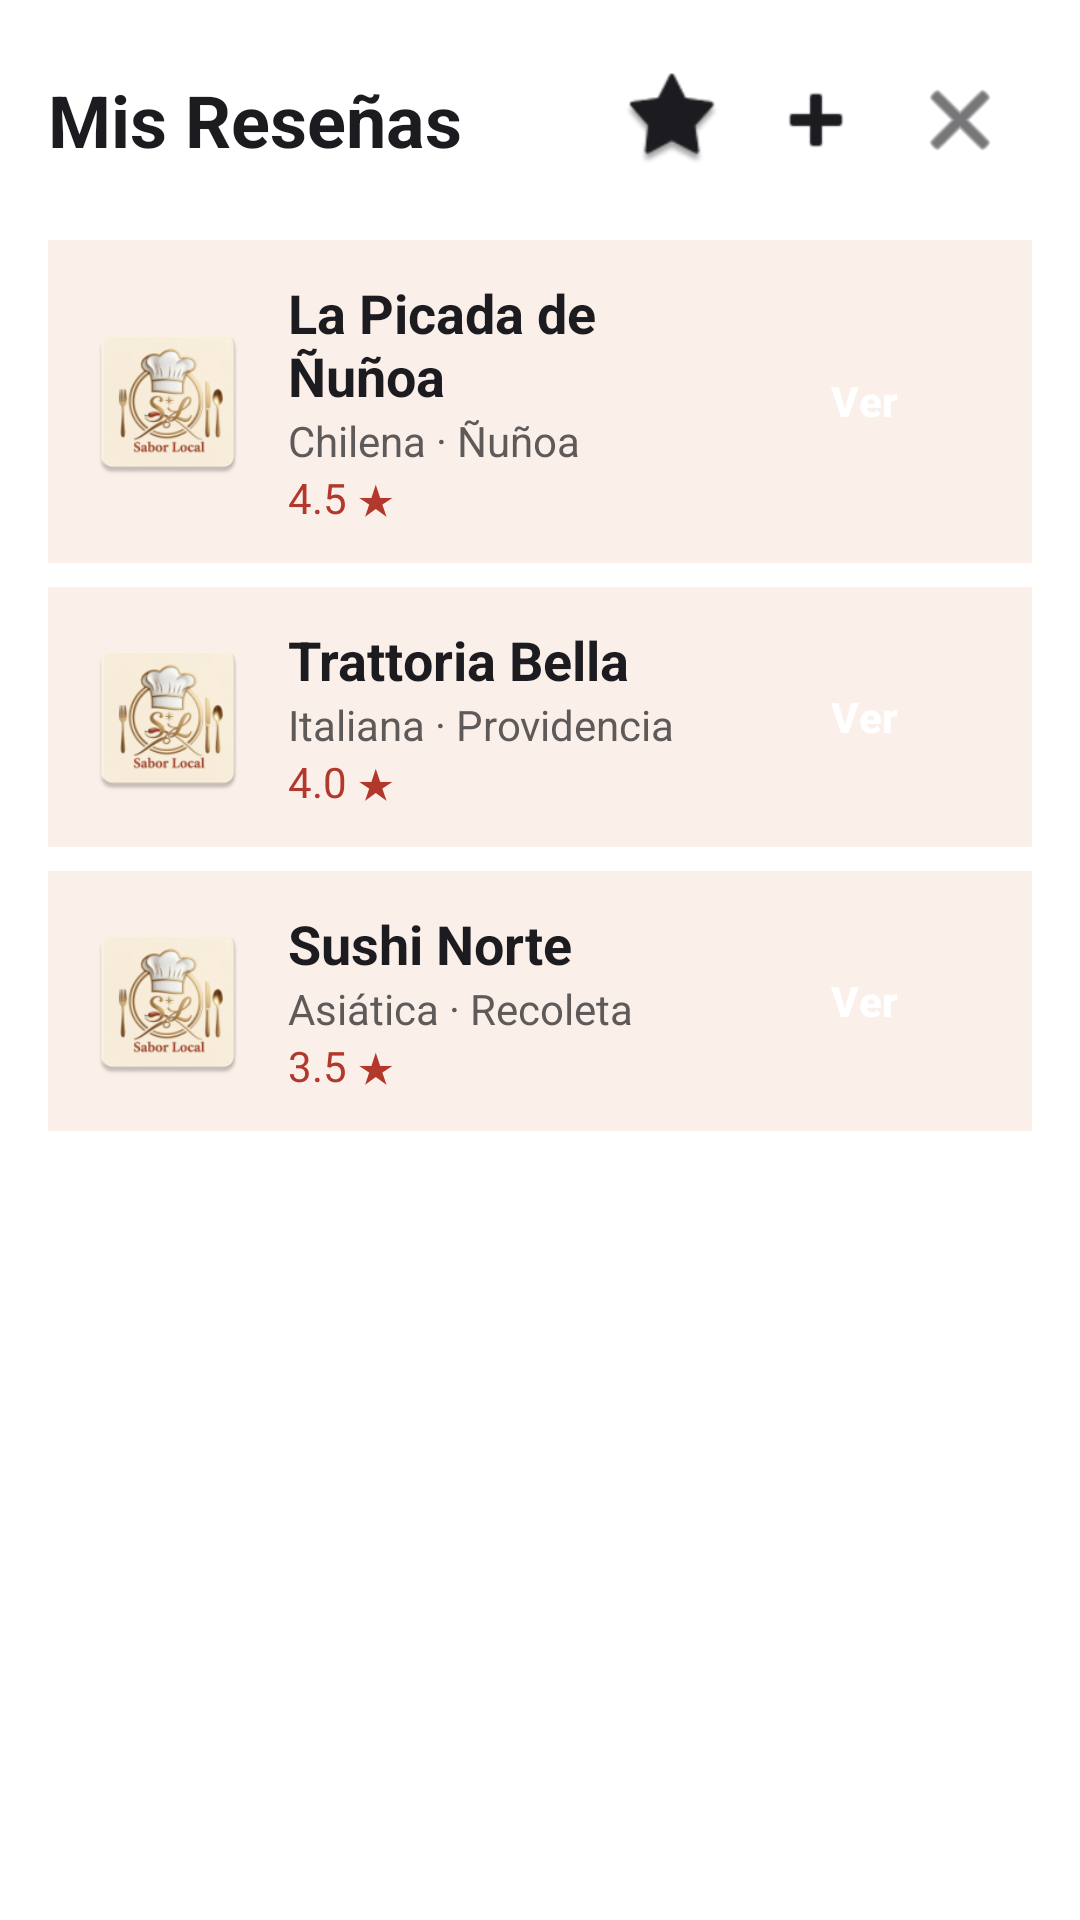

Where icons sit on this 1080*1920 app screen, as [x1,y1,x2,y2]:
Agregar reseña: [789,93,843,147]
